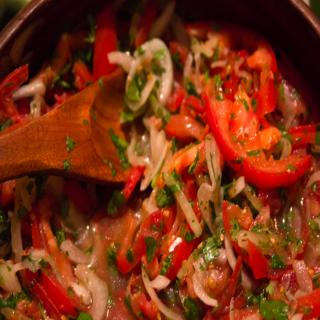tomato: (203, 65, 309, 192), (24, 262, 85, 318)
